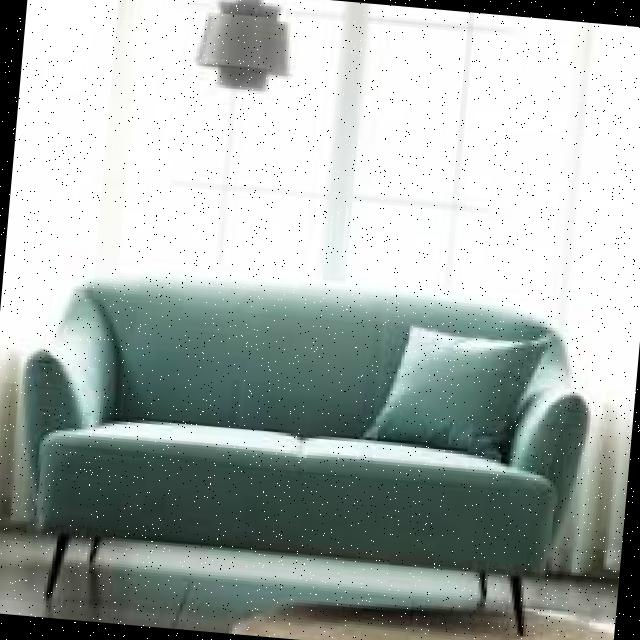Sofa: (0, 243, 635, 601)
